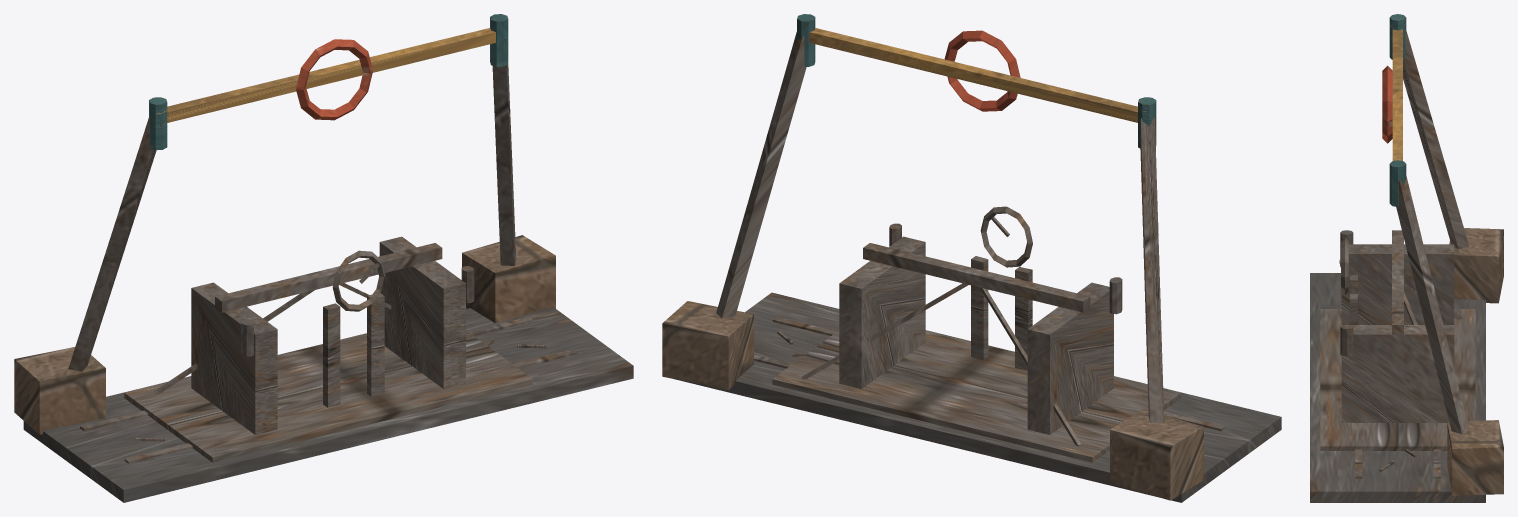
File: south-anchor-gate.glb
The picture shows the model from 3 angles, left to right: view 1: azimuth 30°, elevation 25°; view 2: azimuth 150°, elevation 25°; view 3: azimuth 270°, elevation 25°; orthographic projection. The views are drawn at different scales.
Parts seen in each view (by area): view 1: south-anchor-gate; view 2: south-anchor-gate; view 3: south-anchor-gate.
Boxes of the visible parts, x1,y1,x2,y2 form: south-anchor-gate: [14, 14, 633, 502]; south-anchor-gate: [662, 14, 1281, 502]; south-anchor-gate: [1310, 14, 1503, 502].
Bounding box in the file's own units: 10.13 × 6.92 × 3.75.
1 material, 1 textured.
